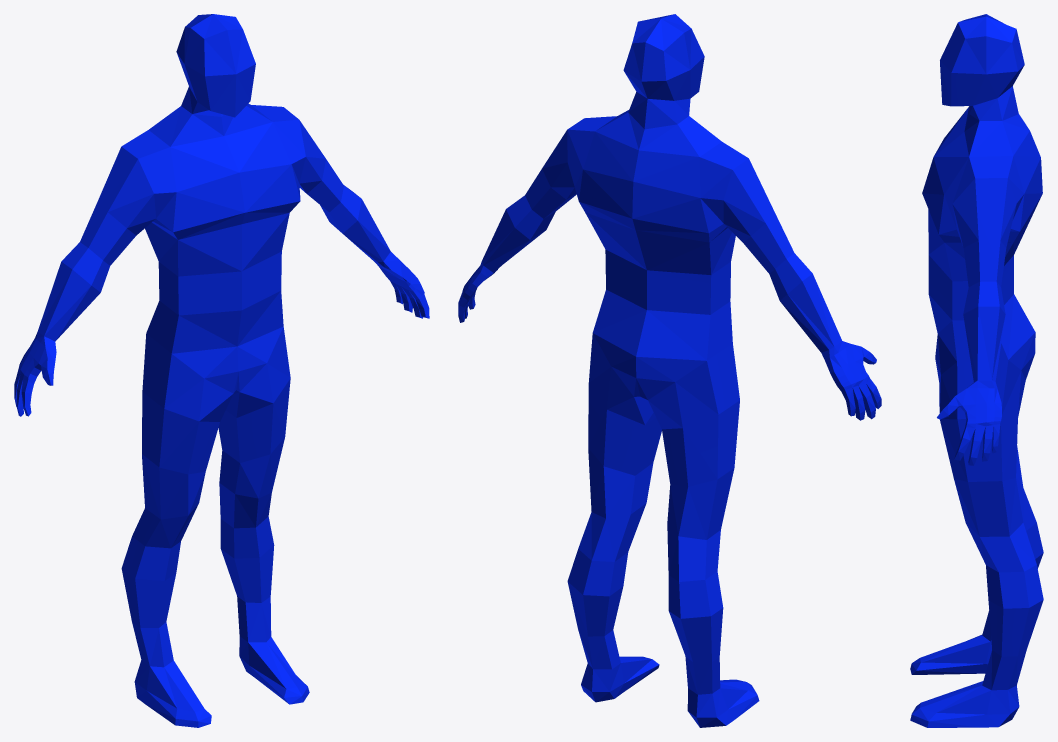
Rendered from BlueSolidEnemy.fbx.
The picture shows the model from 3 angles, left to right: view 1: azimuth 30°, elevation 25°; view 2: azimuth 150°, elevation 25°; view 3: azimuth 270°, elevation 25°; orthographic projection. The views are drawn at different scales.
Parts seen in each view (by area): view 1: Cube.001; view 2: Cube.001; view 3: Cube.001.
Boxes of the visible parts, x1,y1,x2,y2 form: Cube.001: (14,14,429,727); Cube.001: (458,14,881,727); Cube.001: (910,14,1043,727).
Bounding box in the file's own units: 352 × 557 × 99.44.
